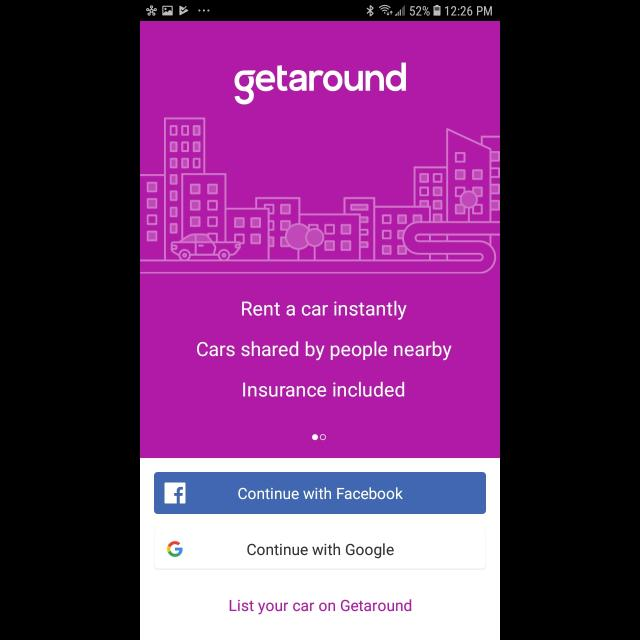image: (140, 118, 500, 272)
pageindicator: (312, 434, 328, 441)
text: (197, 302, 451, 398), (234, 63, 406, 105), (230, 600, 412, 614)
textbutton: (154, 472, 486, 514), (154, 528, 486, 570)
uppertaskbar: (140, 1, 500, 21)
